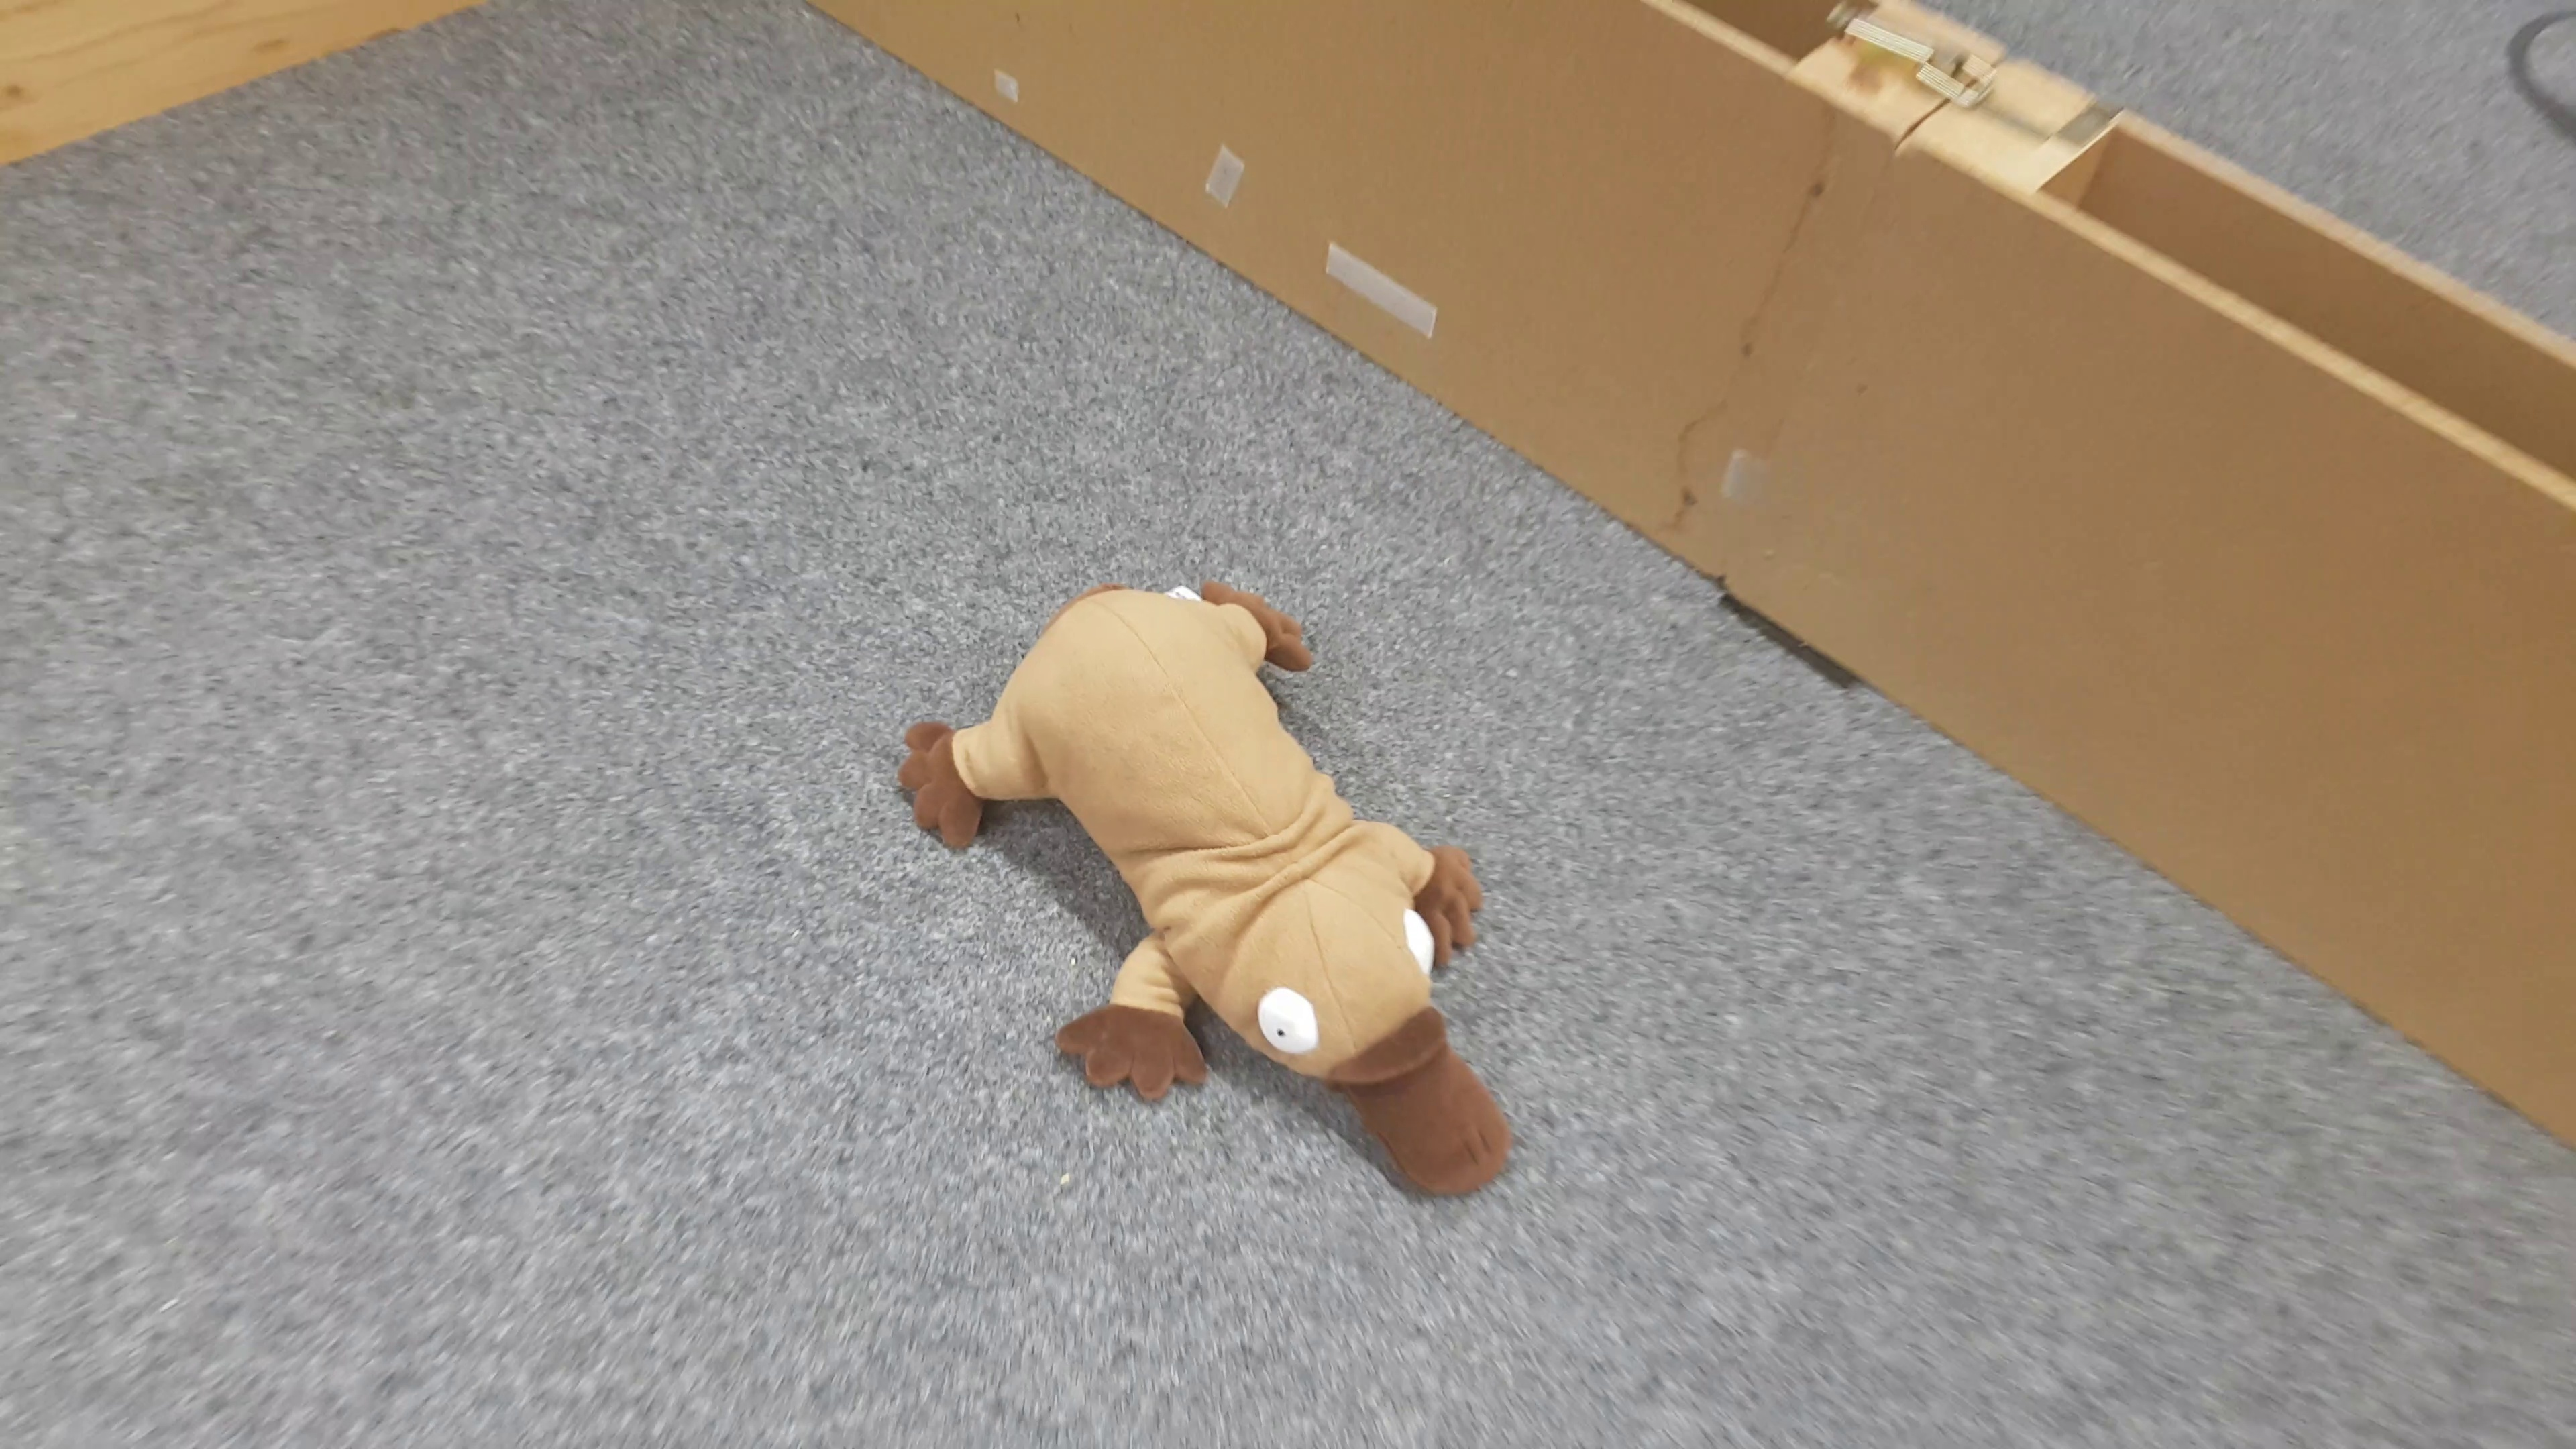grasp: (892, 575, 1511, 1198)
